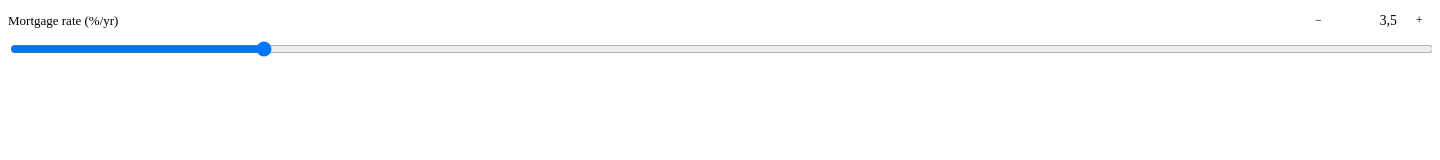
Test case: typing nothing, or something that is not a number, into a field › leaves a percentage as it was and puts it back in the box
Clear the field named "Mortgage rate (%/yr)": (1369, 21) [1335,9,1402,33]
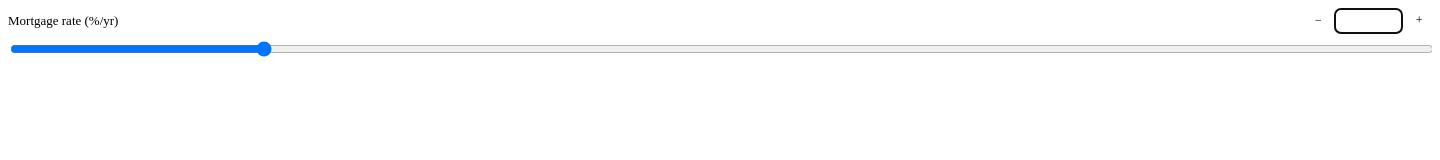
Press Tab
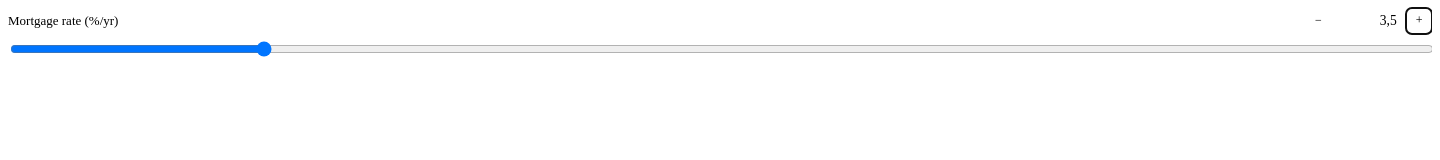
Expected: the field named "Mortgage rate (%/yr)" holds "3,5"
Replace the text in the field named "Mortgage rate (%/yr)" with "%": (1369, 21) [1335,9,1402,33]
Then press Enter
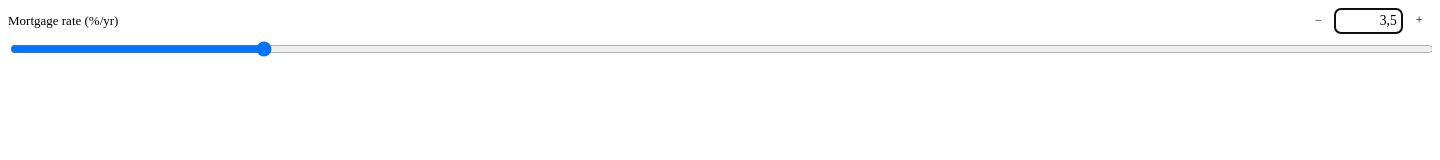
Expected: the field named "Mortgage rate (%/yr)" holds "3,5", [1335,9,1402,33]
